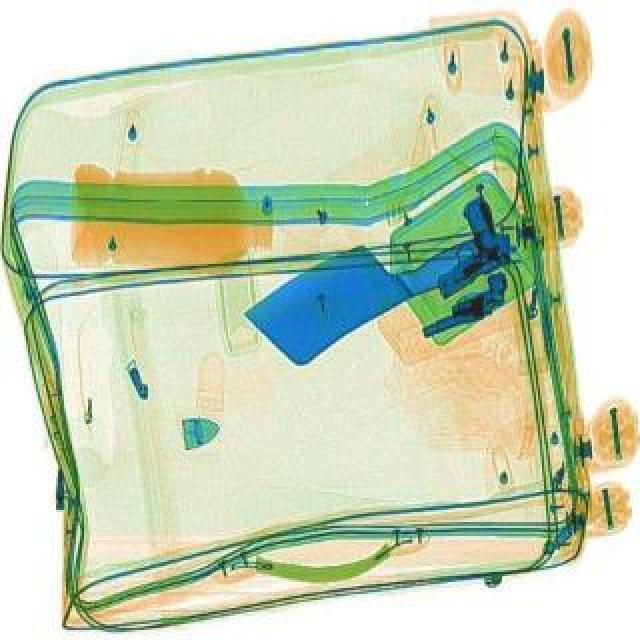gun: (410, 188, 522, 296), (408, 258, 518, 350)
knife: (238, 188, 516, 382)
